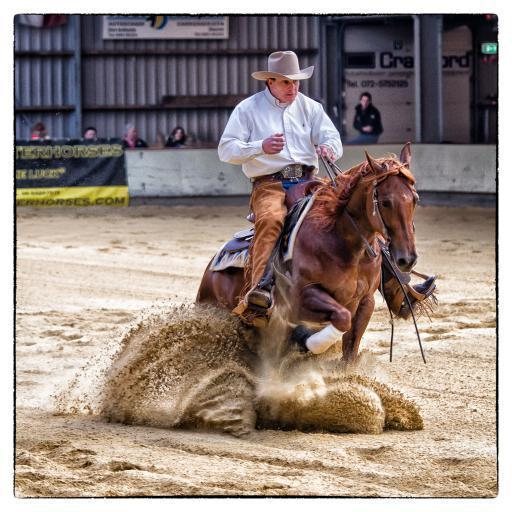horse: (190, 140, 420, 371)
